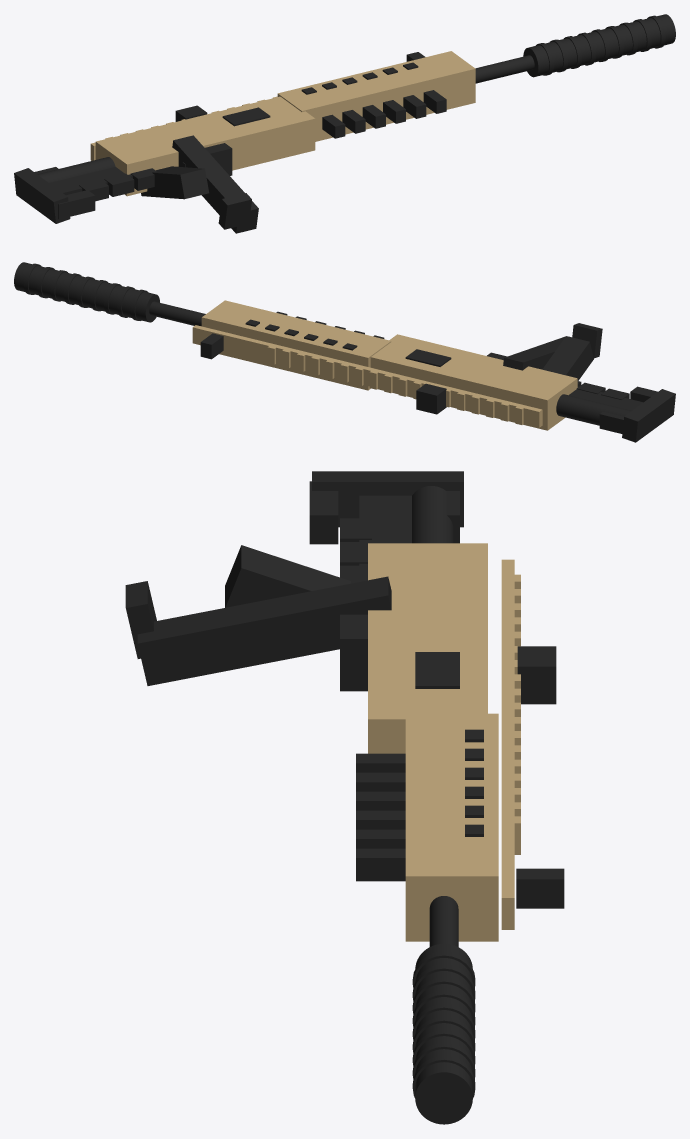
Rendered from karabin.glb.
The picture shows the model from 3 angles, top to bottom: view 1: azimuth 30°, elevation 25°; view 2: azimuth 150°, elevation 25°; view 3: azimuth 270°, elevation 25°; orthographic projection. The views are drawn at different scales.
Visible parts, largest first — view 1: Karabin; view 2: Karabin; view 3: Karabin.
Boxes of the visible parts, box(x1,y1,x2,y2) form: Karabin: box(14, 14, 675, 233); Karabin: box(14, 262, 675, 442); Karabin: box(125, 471, 564, 1124).
Size of the model in its own units: 0.8965 by 0.0658 by 0.2737.
